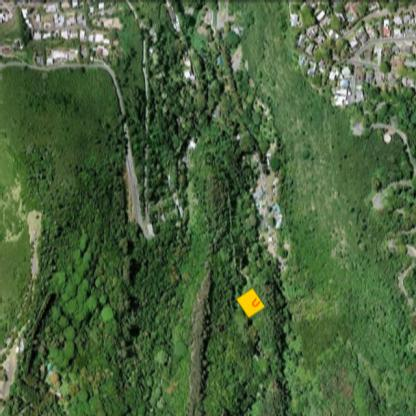U: (250, 296, 260, 308)
rectangle: (235, 286, 266, 320)
